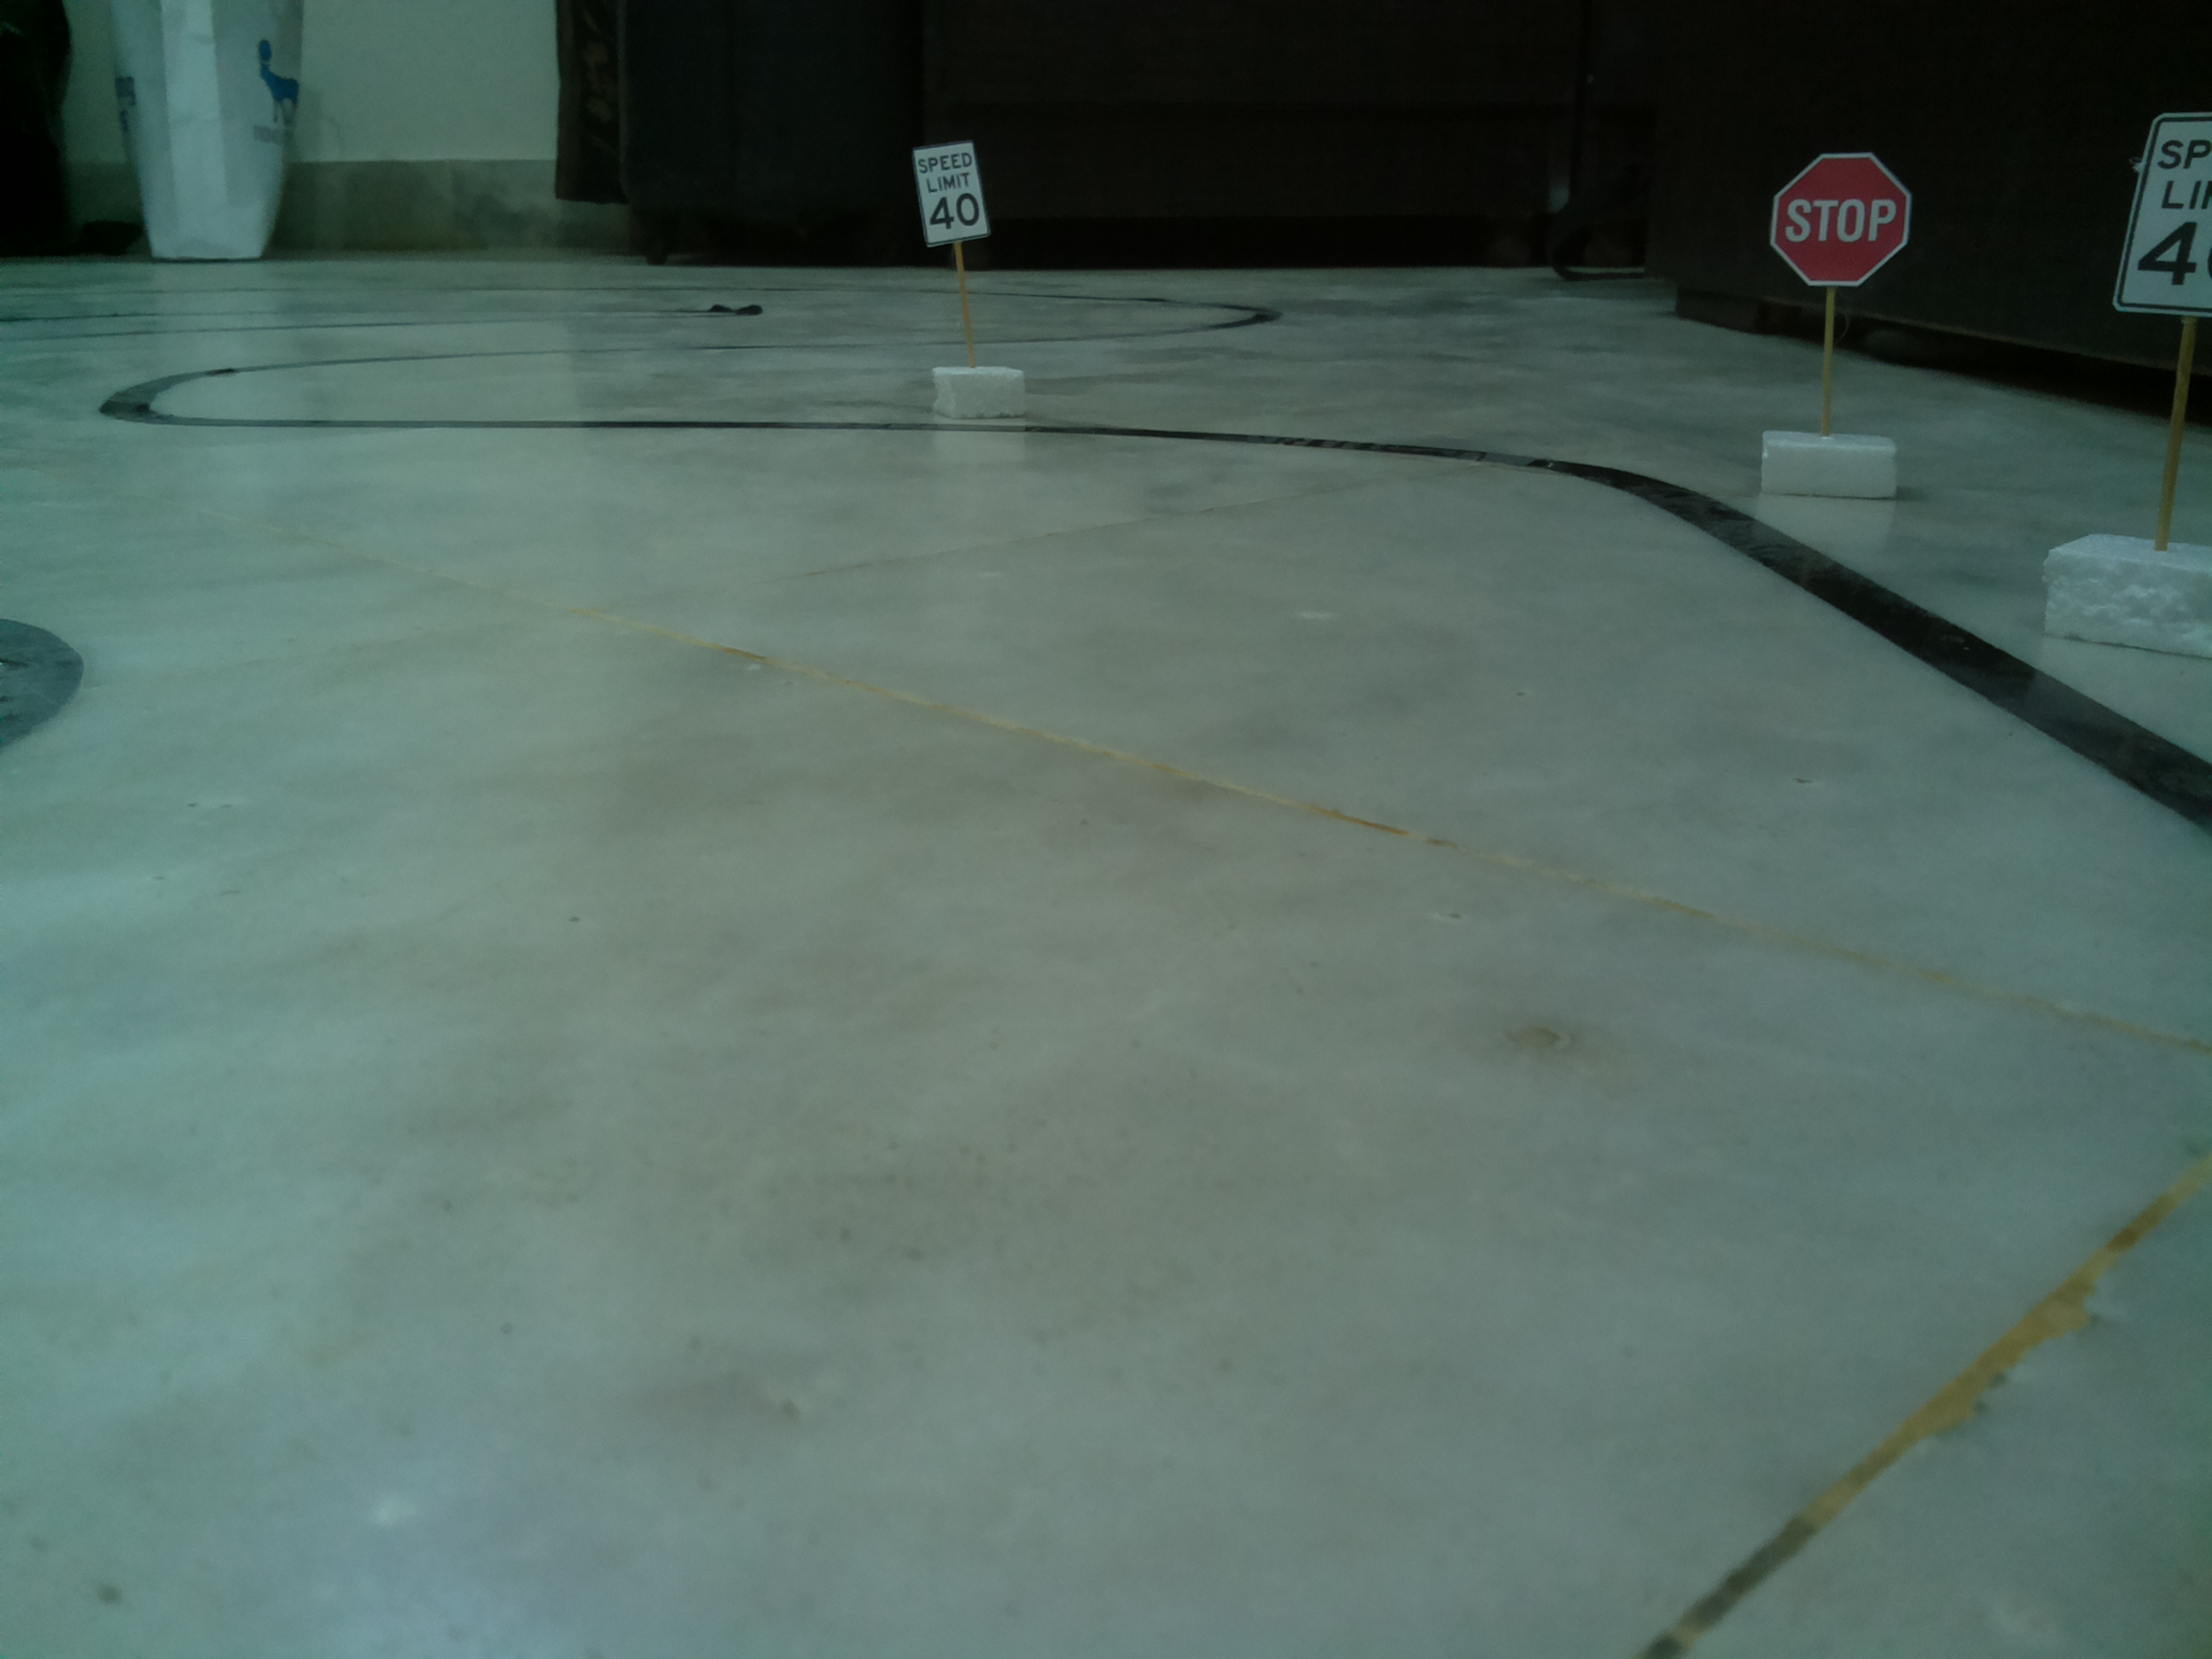Speed limit 40: (2104, 98, 2212, 329), (907, 138, 1000, 247)
Stop sign: (1761, 150, 1919, 291)
